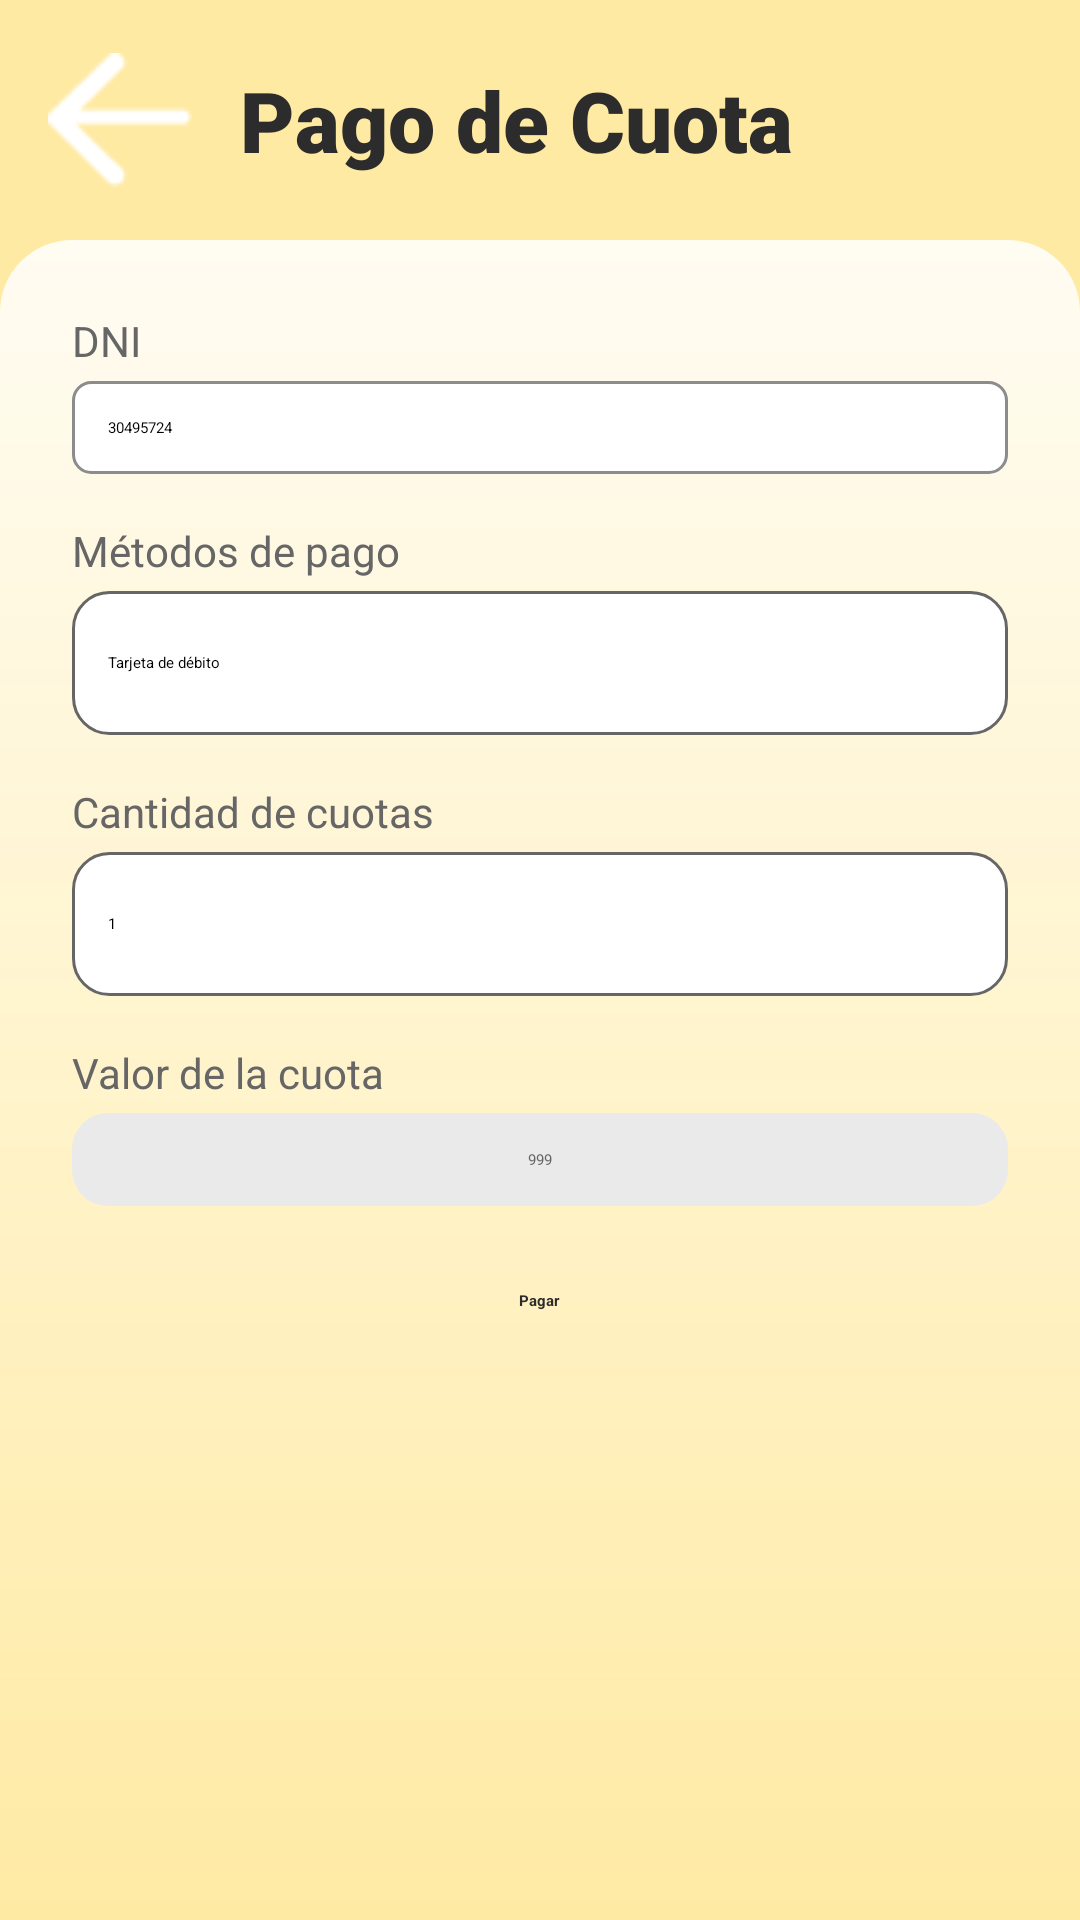

Icon click points for this 1080 × 1920 phone screenshot, format [x,y]:
atras: [120,119]
